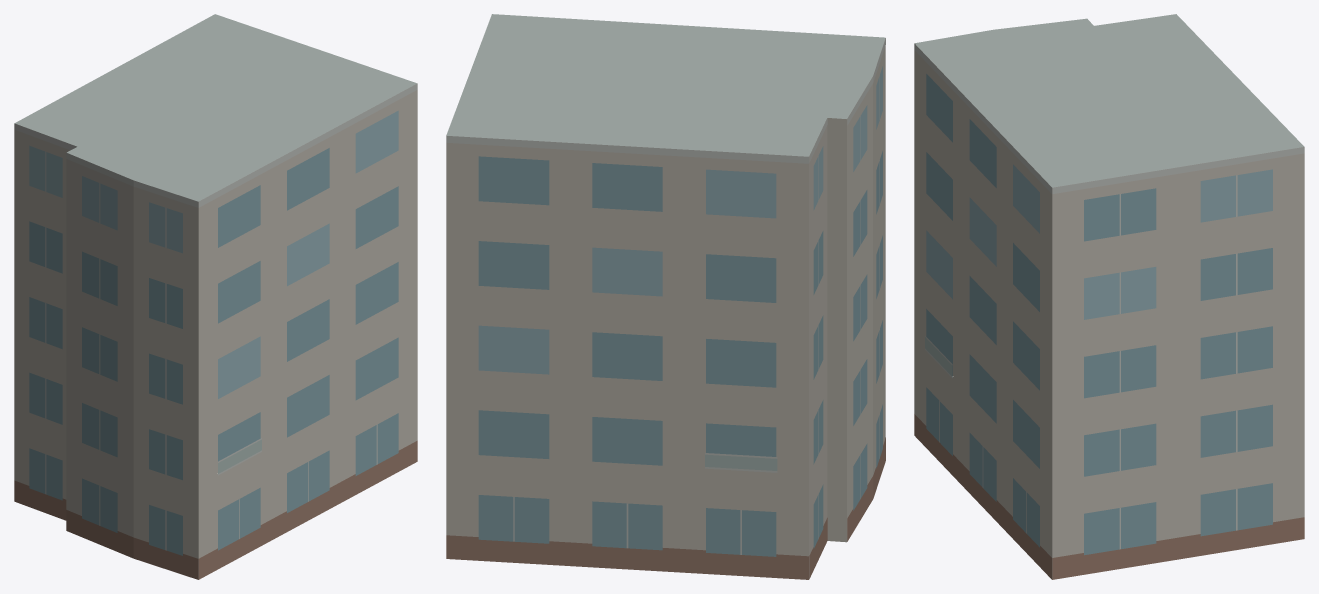
The model's file is survey-upis-32830799.glb.
3 views of the same model, side by side, from view 1: azimuth 30°, elevation 25°; view 2: azimuth 150°, elevation 25°; view 3: azimuth 270°, elevation 25° (orthographic). The views are drawn at different scales.
Visible parts, largest first — view 1: survey-upis-32830799.tmp; view 2: survey-upis-32830799.tmp; view 3: survey-upis-32830799.tmp.
Boxes of the visible parts, x1=… form: survey-upis-32830799.tmp: x1=14, y1=14, x2=417, y2=579; survey-upis-32830799.tmp: x1=446, y1=14, x2=885, y2=579; survey-upis-32830799.tmp: x1=914, y1=14, x2=1304, y2=579.
Bounding box in the file's own units: 13.98 × 14.7 × 13.27.
